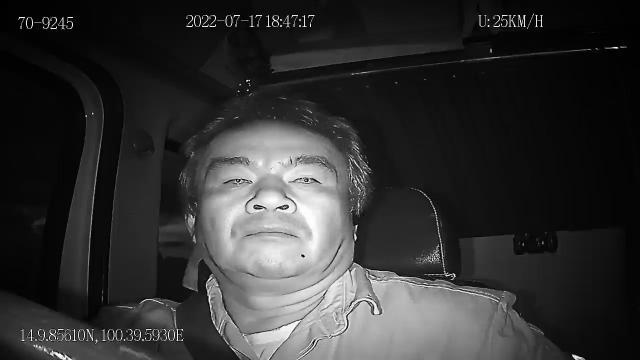SafeDriving: (210, 164, 259, 196), (283, 164, 328, 192)
Seatbelt: (173, 290, 243, 360)
